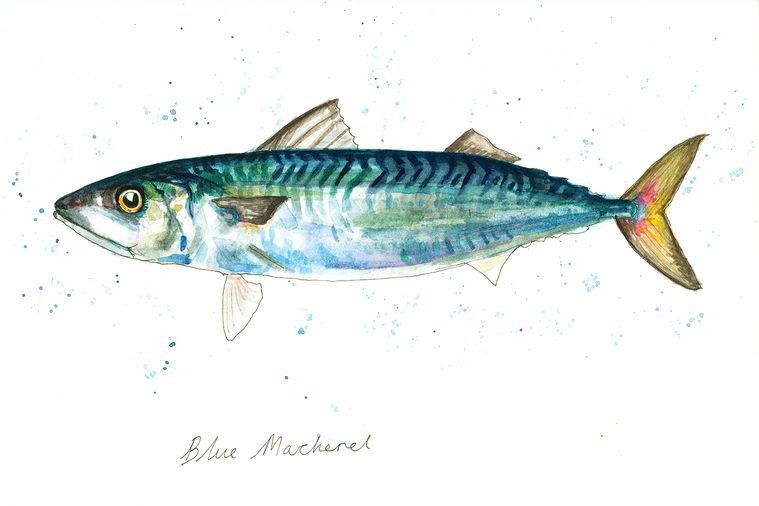Mackerel: (49, 97, 711, 328)
